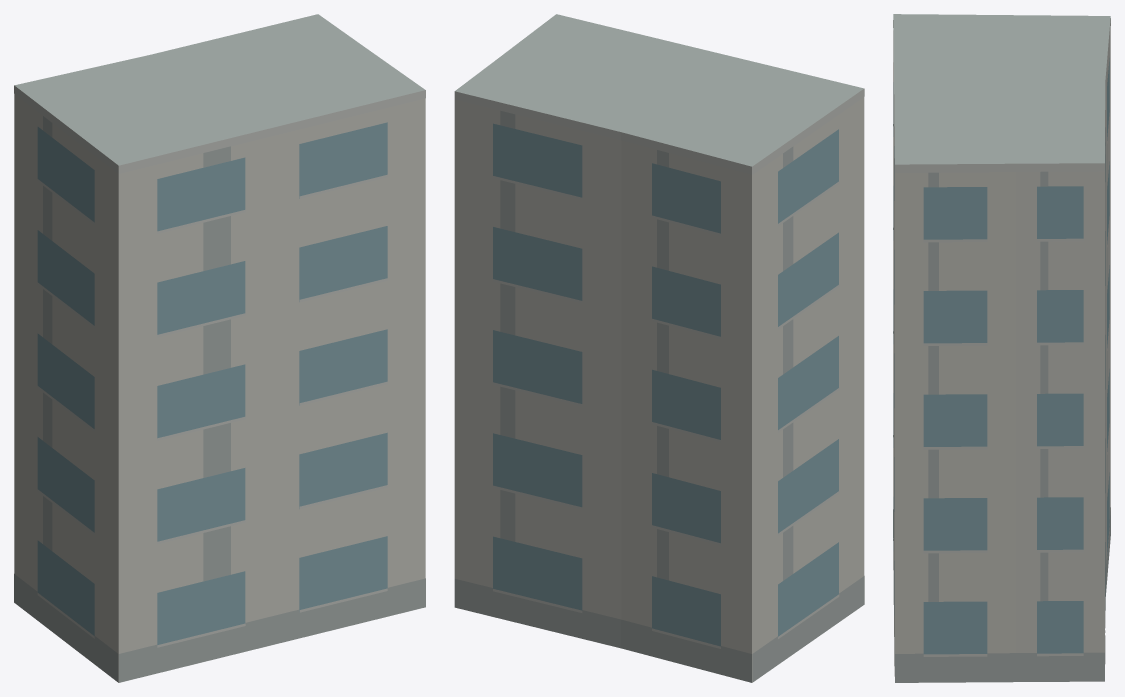
The model's file is survey-upis-33024760.glb.
The picture shows the model from 3 angles, left to right: view 1: azimuth 30°, elevation 25°; view 2: azimuth 150°, elevation 25°; view 3: azimuth 270°, elevation 25°; orthographic projection.
Visible parts, largest first — view 1: survey-upis-33024760.tmp; view 2: survey-upis-33024760.tmp; view 3: survey-upis-33024760.tmp.
Boxes of the visible parts, x1,y1,x2,y2 form: survey-upis-33024760.tmp: (14,14,425,682); survey-upis-33024760.tmp: (454,14,864,682); survey-upis-33024760.tmp: (893,14,1110,682).
Bounding box in the file's own units: 9.54 × 15.3 × 5.83.
